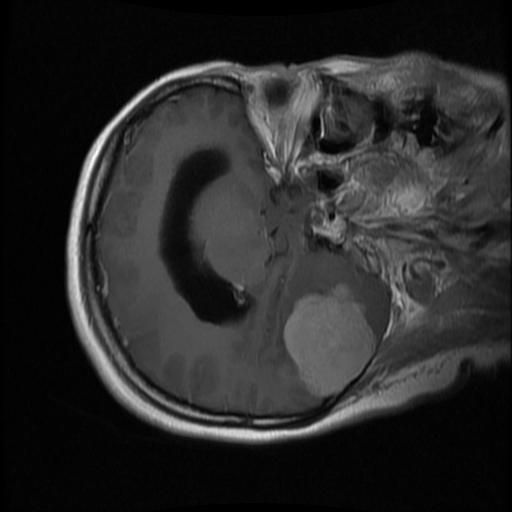meningioma: (281, 288, 377, 397)
